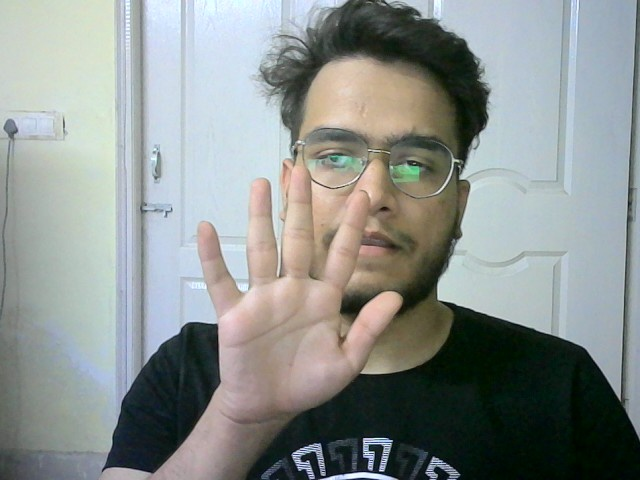Hello: (190, 163, 396, 417)
